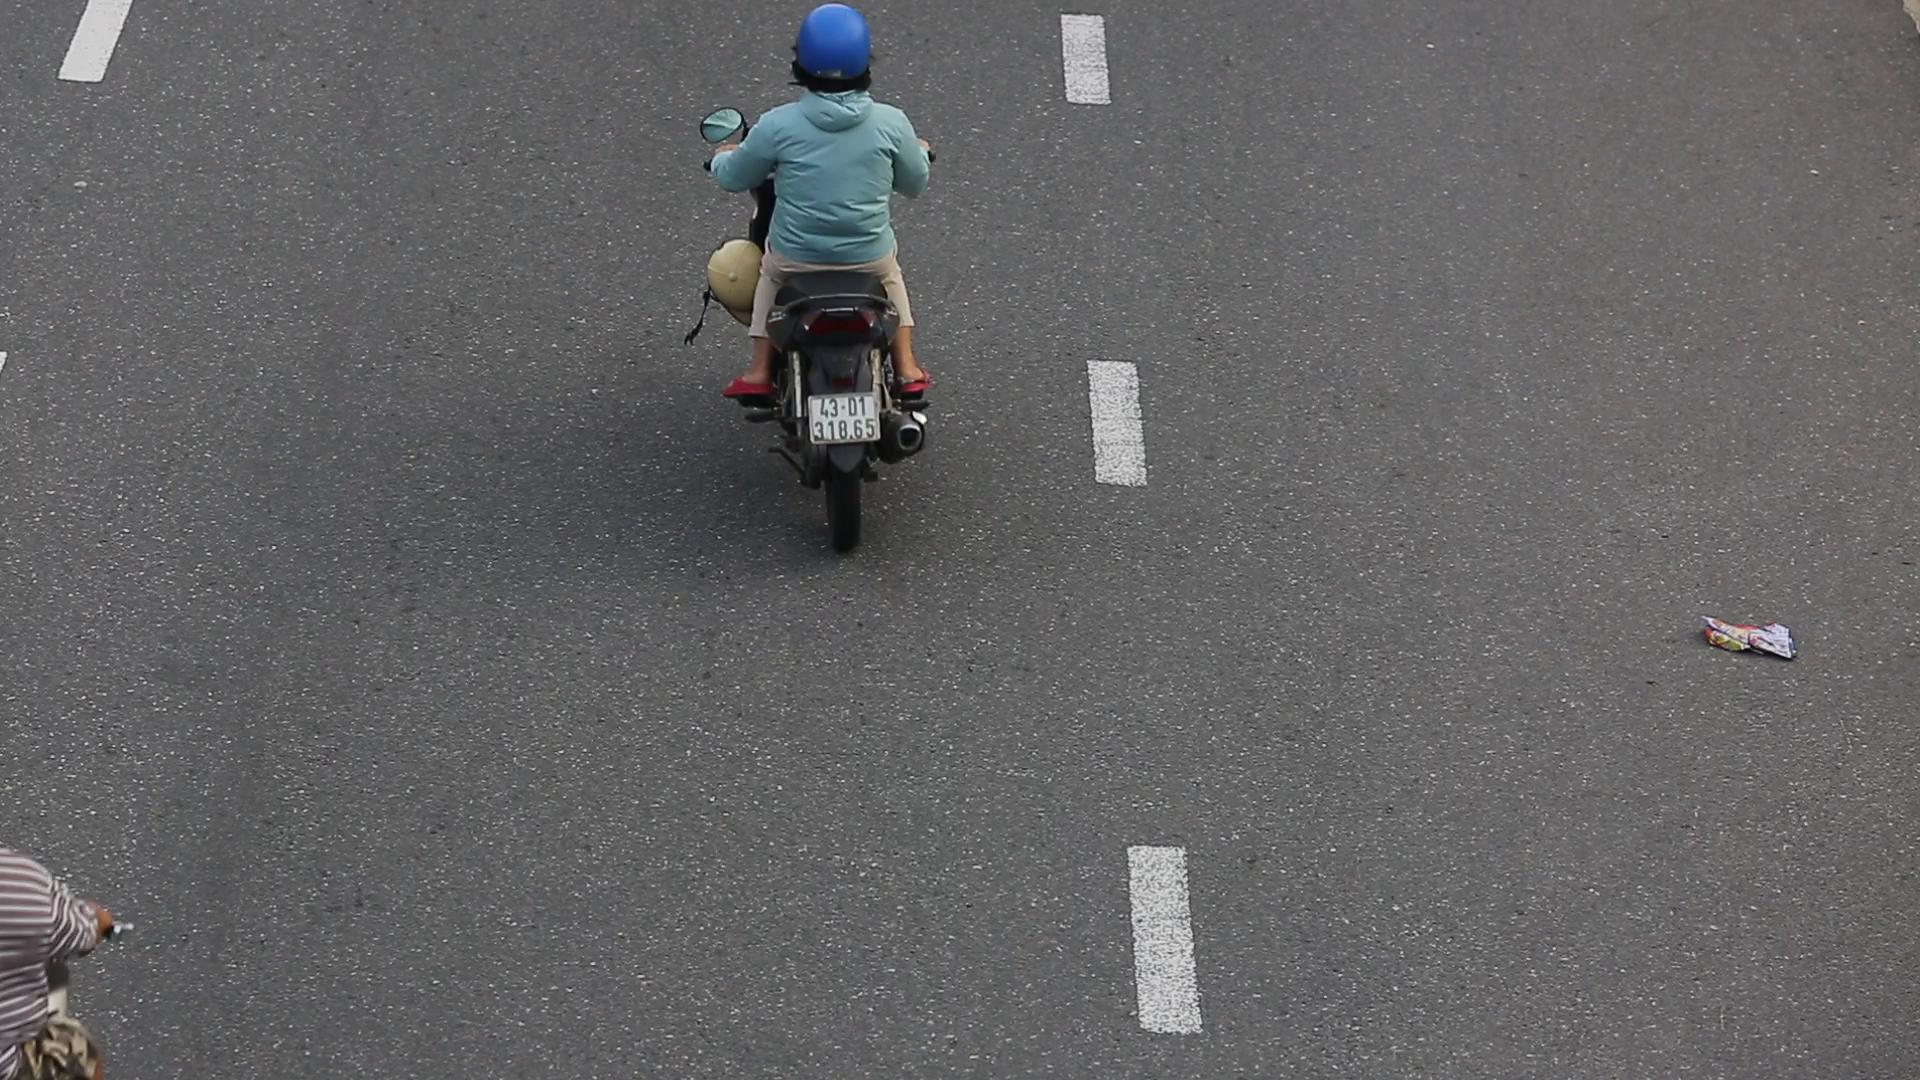motobike: (692, 7, 957, 571)
